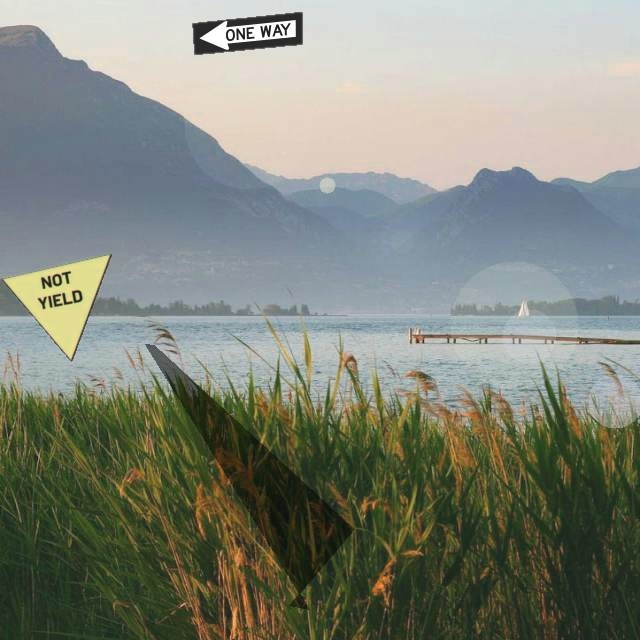NOT_YIELD: (1, 253, 112, 362)
ONE_WAY_ left: (192, 11, 303, 55)
